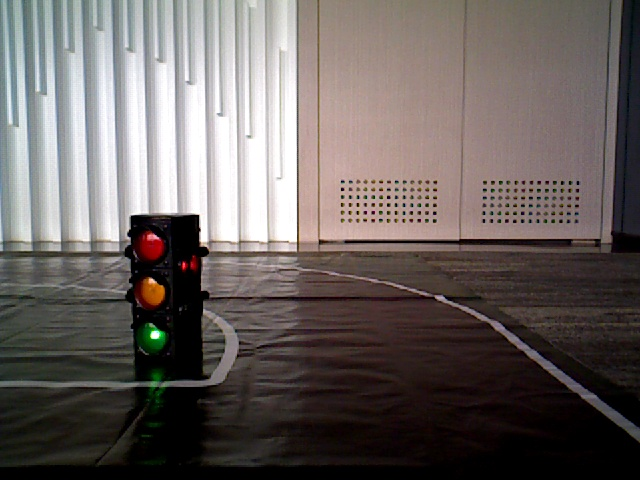green: (137, 219, 174, 358)
